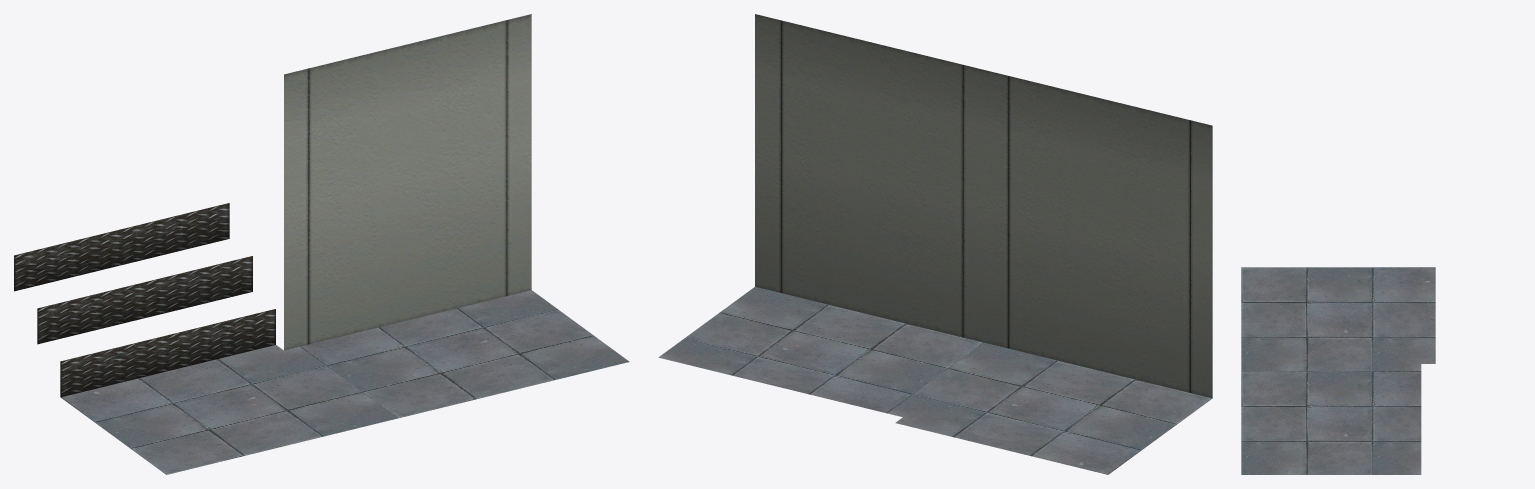
The model's file is Control_Tower_StairLink.glb.
3 views of the same model, side by side, from view 1: azimuth 30°, elevation 25°; view 2: azimuth 150°, elevation 25°; view 3: azimuth 270°, elevation 25° (orthographic). The views are drawn at different scales.
Visible parts, largest first — view 1: CONTROL_TOWER_STAIRLINK; view 2: CONTROL_TOWER_STAIRLINK; view 3: CONTROL_TOWER_STAIRLINK.
Part boxes in pixels (x1=…): CONTROL_TOWER_STAIRLINK: x1=14, y1=14, x2=629, y2=474; CONTROL_TOWER_STAIRLINK: x1=658, y1=14, x2=1212, y2=474; CONTROL_TOWER_STAIRLINK: x1=1241, y1=267, x2=1435, y2=474.
Bounding box in the file's own units: 5.05 × 2.88 × 2.88.
Materials: 4 (4 with a texture image).
